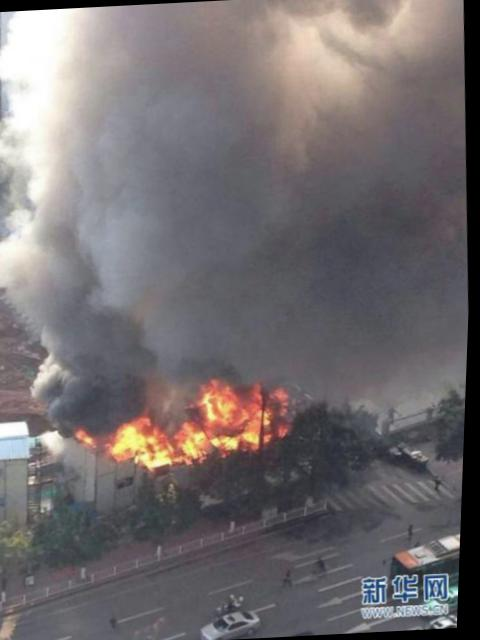fire: (197, 382, 240, 422), (110, 419, 147, 462), (174, 422, 213, 460), (141, 430, 177, 469), (238, 388, 264, 427), (216, 428, 261, 449), (77, 426, 101, 445)
